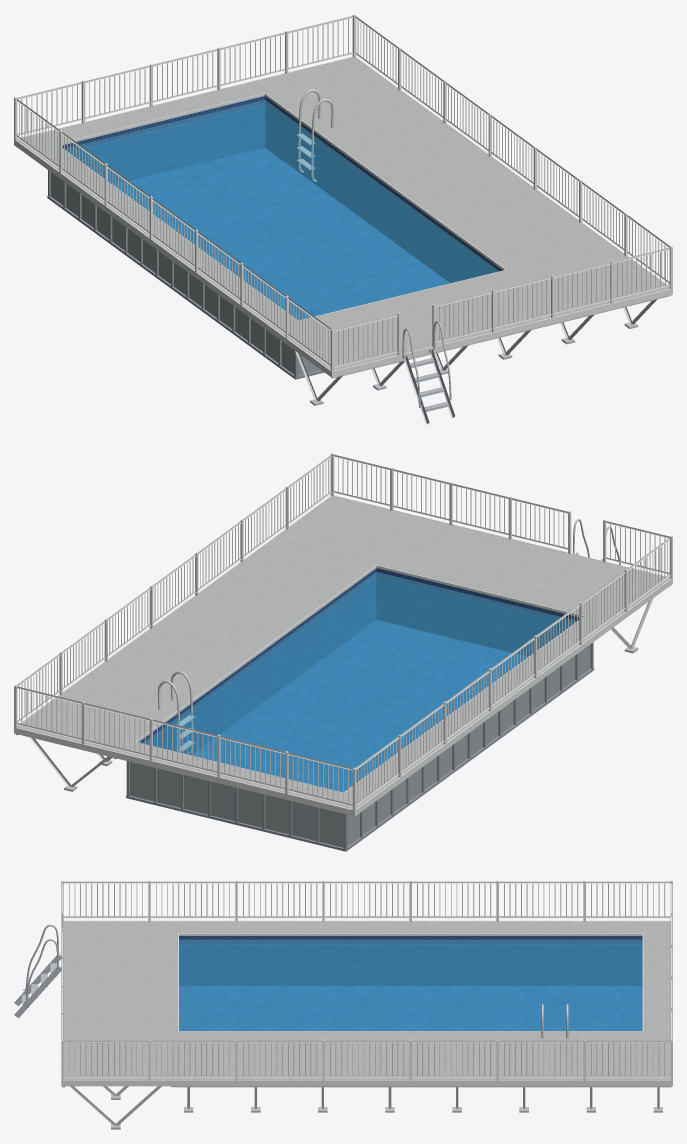
File: kayak-pool-16x32-gray-endside-ag-fence.e9c70557c2.glb
3 renders of one model, top to bottom at view 1: azimuth 30°, elevation 25°; view 2: azimuth 150°, elevation 25°; view 3: azimuth 270°, elevation 25°, orthographic. The views are drawn at different scales.
Parts seen in each view (by area): view 1: deck, water, fence, liner_floor, liner_wall, fascia, wall, upright, stud, ladder, steel; view 2: deck, water, fence, liner_floor, liner_wall, wall, fascia, upright, stud, steel; view 3: deck, water, liner_wall, liner_floor, fence, fascia, stud, ladder.
Part boxes in pixels (x1,y1,x2,y2): deck: (17, 57, 669, 370); water: (65, 100, 498, 320); fence: (14, 14, 672, 371); liner_floor: (113, 148, 449, 320); liner_wall: (62, 96, 502, 282); fascia: (14, 56, 672, 377); wall: (51, 172, 320, 375); upright: (47, 170, 324, 379); stud: (274, 295, 671, 405); ladder: (402, 321, 454, 424); steel: (296, 89, 333, 181); deck: (17, 496, 669, 809); water: (142, 572, 576, 792); fence: (14, 453, 672, 810); liner_floor: (191, 620, 527, 792); liner_wall: (139, 568, 578, 755); wall: (130, 644, 590, 847); fascia: (14, 495, 672, 816); upright: (126, 642, 594, 851); stud: (15, 585, 670, 791); steel: (157, 671, 194, 754); deck: (63, 921, 670, 1080); water: (179, 939, 642, 1030); liner_wall: (179, 936, 642, 985); liner_floor: (179, 986, 642, 1030); fence: (61, 880, 672, 1080); fascia: (61, 920, 672, 1086); stud: (62, 1086, 671, 1129); ladder: (14, 924, 61, 1017).
Size of the model in its own units: 7.93 by 2.15 by 13.79.
Materials: 11 (3 with a texture image).
